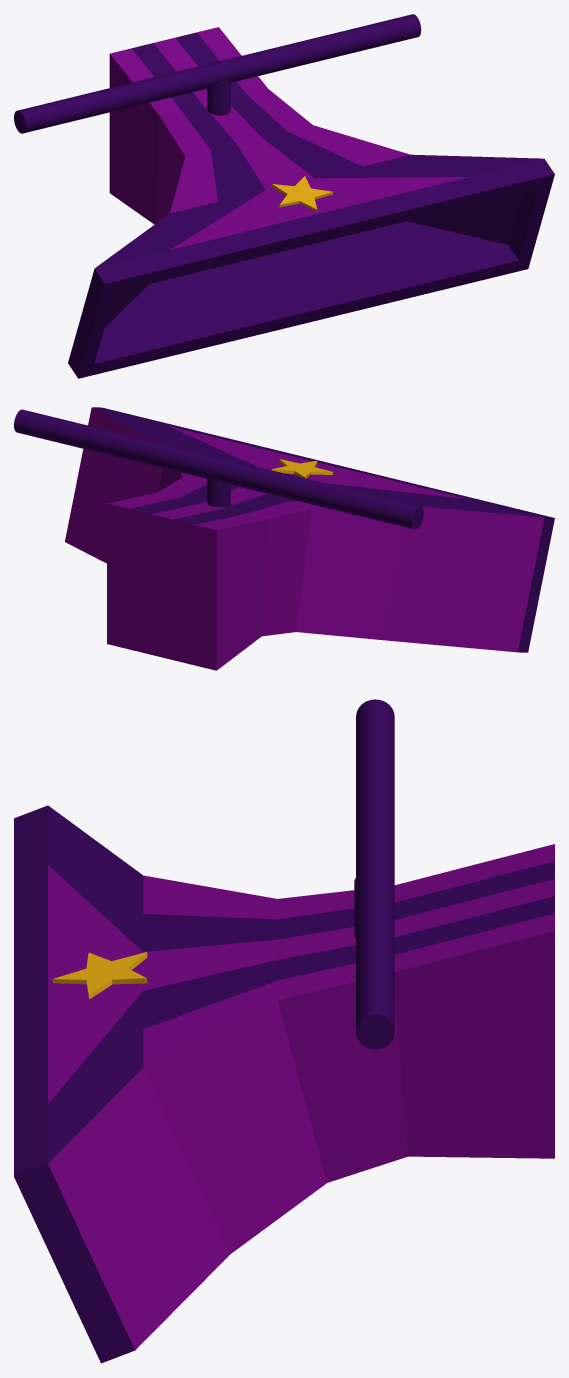
The model's file is usisivac final.fbx.
The picture shows the model from 3 angles, top to bottom: view 1: azimuth 30°, elevation 25°; view 2: azimuth 150°, elevation 25°; view 3: azimuth 270°, elevation 25°; orthographic projection. The views are drawn at different scales.
Visible parts, largest first — view 1: Usisivac1.005; view 2: Usisivac1.005; view 3: Usisivac1.005.
Boxes of the visible parts, x1,y1,x2,y2 form: Usisivac1.005: (14,14,554,378); Usisivac1.005: (14,407,554,670); Usisivac1.005: (14,699,554,1363).
Size of the model in its own units: 210 by 89.24 by 134.
